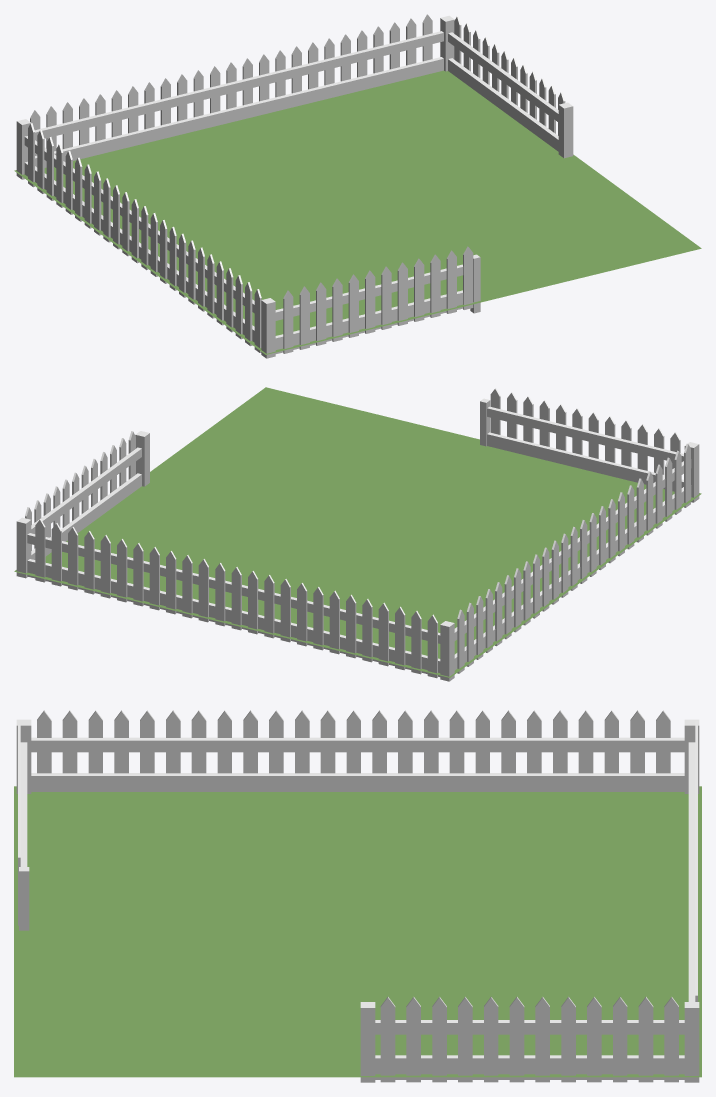
Rendered from tile_for_home_1x1_009.fbx.
3 views of the same model, one above another, from view 1: azimuth 30°, elevation 25°; view 2: azimuth 150°, elevation 25°; view 3: azimuth 270°, elevation 25° (orthographic). The views are drawn at different scales.
Parts seen in each view (by area): view 1: tile_for_home_1x1_009; view 2: tile_for_home_1x1_009; view 3: tile_for_home_1x1_009.
Part boxes in pixels (bbox=[...]): tile_for_home_1x1_009: bbox=[14, 14, 701, 358]; tile_for_home_1x1_009: bbox=[14, 387, 701, 681]; tile_for_home_1x1_009: bbox=[14, 710, 701, 1082].
Size of the model in its own units: 800 by 119 by 800.
